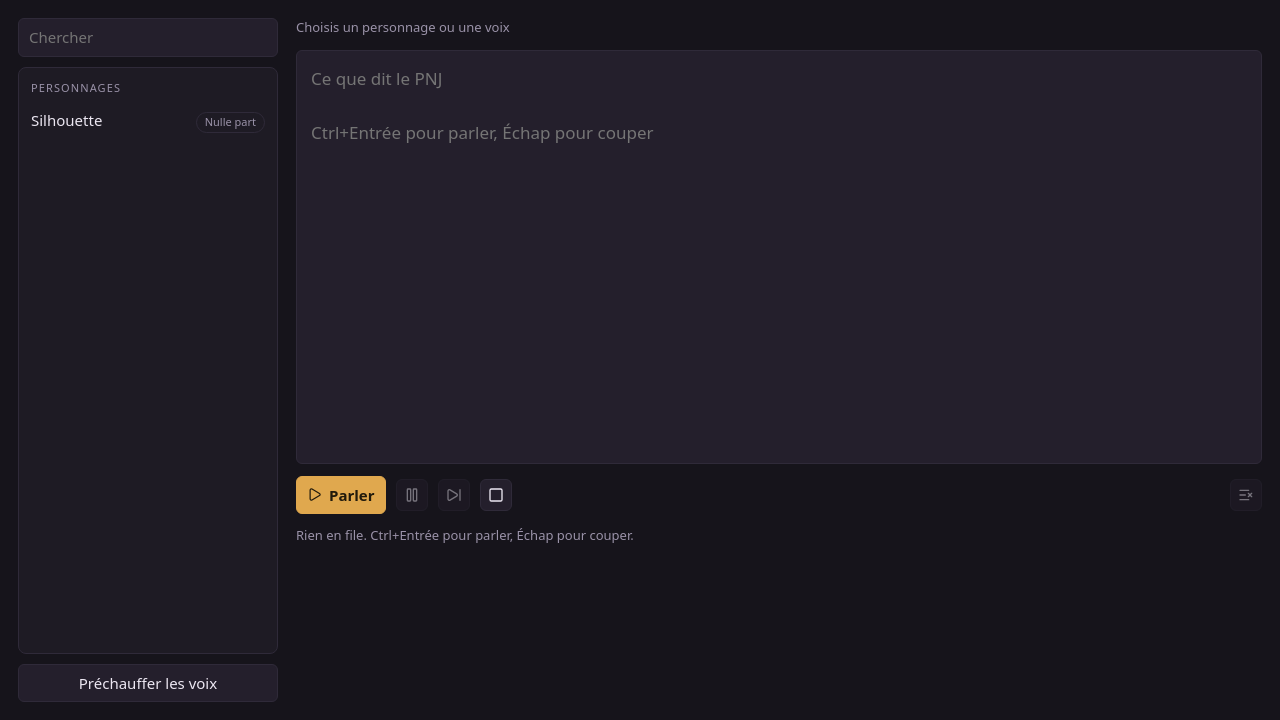
Test: choix de la cible › refuse de parler pour une fiche sans voix
Click the list item "Silhouette": (67, 120) [31, 110, 265, 132]
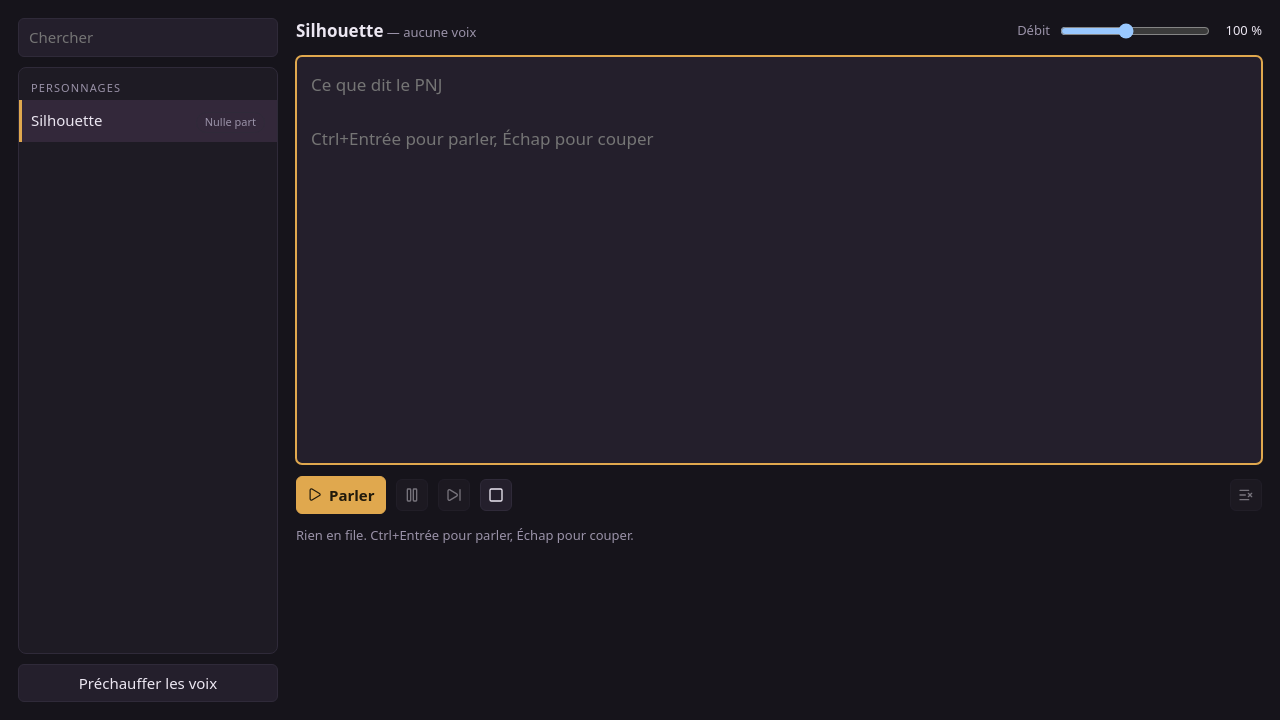
Click the button "Parler": (341, 495) [296, 476, 386, 514]
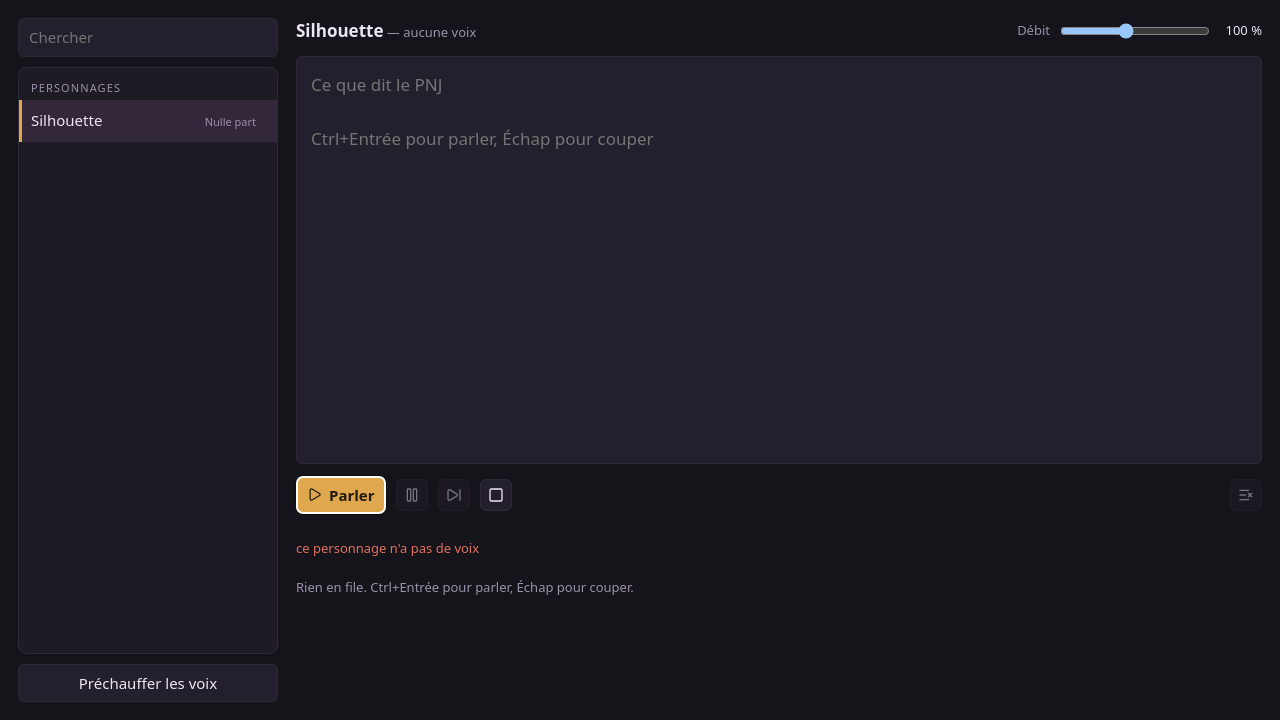
Check: the text "ce personnage n'a pas de voix" is shown, box [296, 539, 479, 557]
